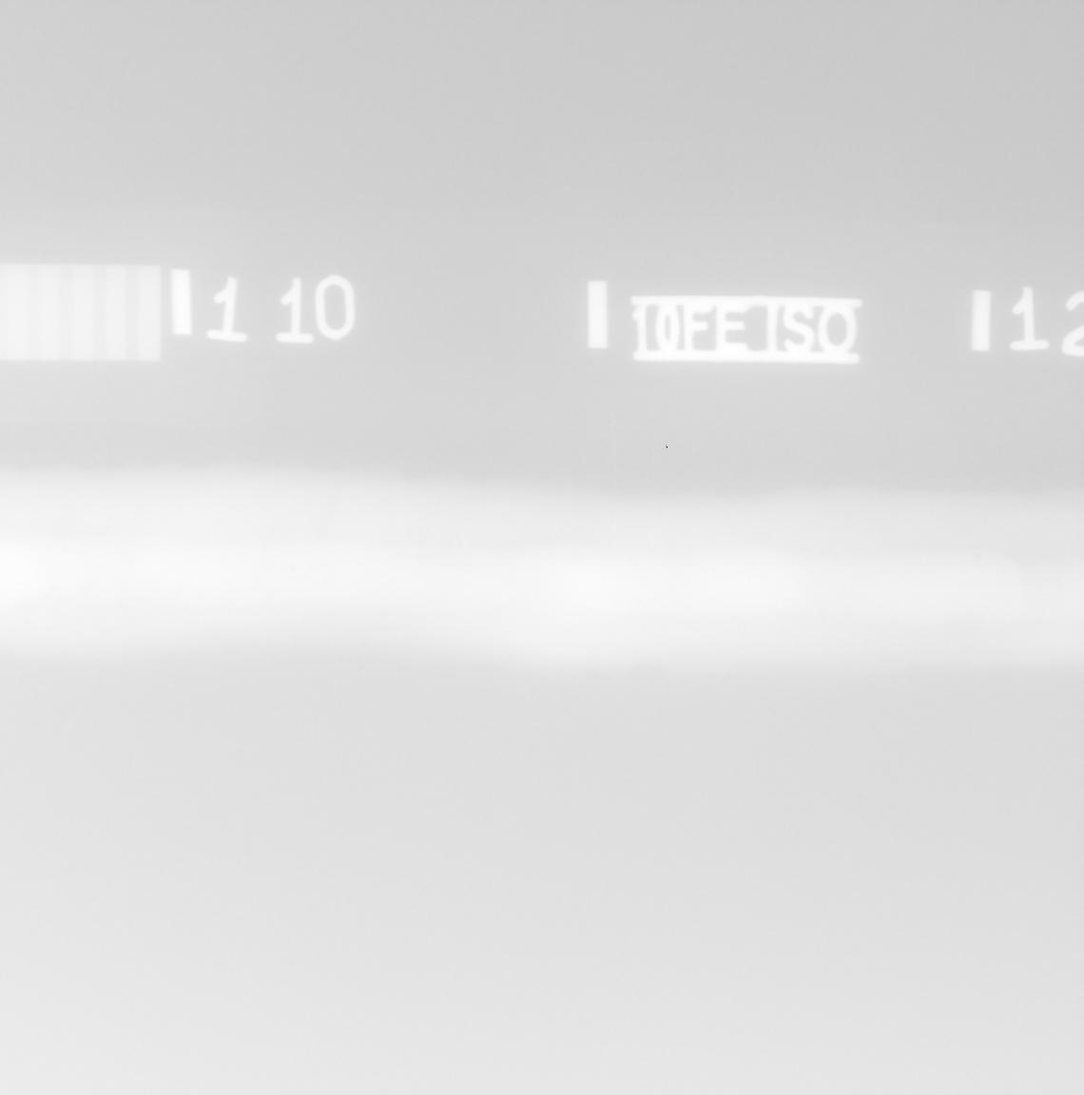Pore/Porosity: (289, 567, 297, 574), (971, 555, 979, 562)
